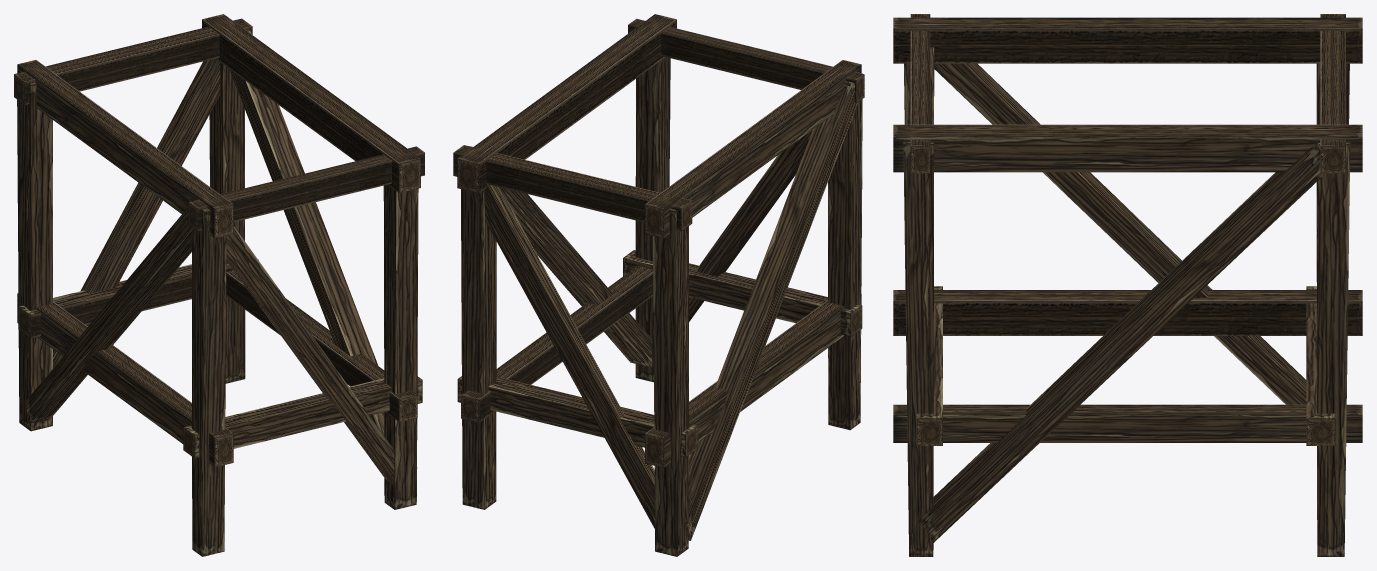
The model's file is Wood_4X6X6_03.fbx.
The picture shows the model from 3 angles, left to right: view 1: azimuth 30°, elevation 25°; view 2: azimuth 150°, elevation 25°; view 3: azimuth 270°, elevation 25°; orthographic projection. The views are drawn at different scales.
Parts seen in each view (by area): view 1: Wood_4X6X6_03; view 2: Wood_4X6X6_03; view 3: Wood_4X6X6_03.
Boxes of the visible parts, x1,y1,x2,y2 form: Wood_4X6X6_03: (14,14,424,556); Wood_4X6X6_03: (453,14,864,556); Wood_4X6X6_03: (893,14,1362,556).
Bounding box in the file's own units: 4 × 5.9 × 6.
